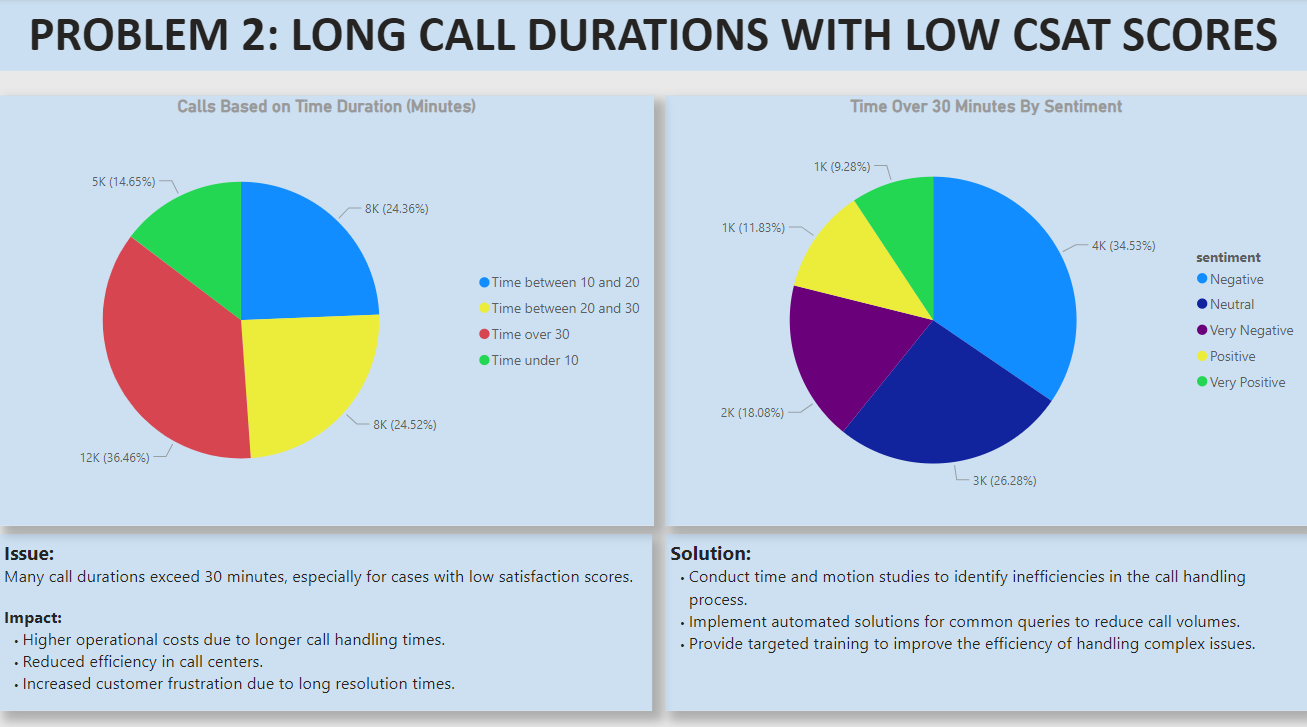

What the dashboard file says about the page in this screenshot:
{"tool":"powerbi","page":{"name":"Problem 2","canvas":[1280,720],"ordinal":2},"visuals":[{"type":"textbox","box":[0,0,1280.3,70.9],"z":0},{"type":"pieChart","title":"Calls Based on Time Duration (Minutes)","fields":{"Y":["Hospitality call center data.Time between 10 and 20","Hospitality call center data.Time between 20 and 30","Hospitality call center data.Time over 30","Hospitality call center data.Time under 10"]},"box":[0,95.4,640.8,420.7],"z":1000},{"type":"textbox","box":[0,524.6,639.5,172.4],"z":2000},{"type":"pieChart","title":"Time Over 30 Minutes By Sentiment","fields":{"Y":["Hospitality call center data.Time over 30"],"Category":["Hospitality call center data.sentiment"]},"box":[651.8,95.4,628.5,420.7],"z":3000},{"type":"textbox","box":[651.8,524.6,628.5,172.4],"z":4000}]}

Visuals, with their boxes in screenshot pixels (x1, y1, x2, y2), scaled from the page's 1280x720 canvas onto the 1307x727 screenshot:
textbox: bbox=(0, 0, 1306, 72)
"Calls Based on Time Duration (Minutes)" pieChart: bbox=(0, 96, 654, 521)
textbox: bbox=(0, 530, 653, 704)
"Time Over 30 Minutes By Sentiment" pieChart: bbox=(666, 96, 1306, 521)
textbox: bbox=(666, 530, 1306, 704)
